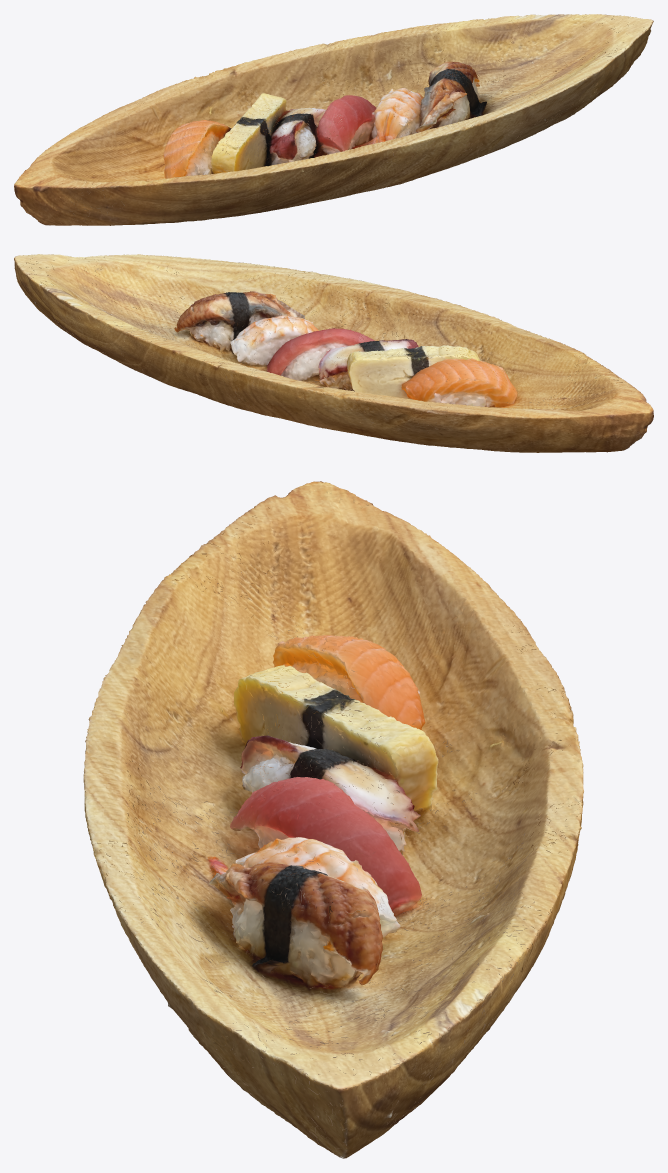
The model's file is sushi_draco.glb.
3 renders of one model, top to bottom at view 1: azimuth 30°, elevation 25°; view 2: azimuth 150°, elevation 25°; view 3: azimuth 270°, elevation 25°, orthographic. The views are drawn at different scales.
Parts seen in each view (by area): view 1: Object_2, Object_3; view 2: Object_2, Object_3; view 3: Object_2, Object_3.
Part boxes in pixels (x1=…): Object_2: x1=14, y1=14, x2=653, y2=225; Object_3: x1=54, y1=14, x2=653, y2=225; Object_2: x1=14, y1=254, x2=653, y2=452; Object_3: x1=14, y1=254, x2=640, y2=450; Object_2: x1=84, y1=481, x2=583, y2=1158; Object_3: x1=83, y1=501, x2=582, y2=1158.
Size of the model in its own units: 0.4573 by 0.0398 by 0.1564.
Materials: 1 (1 with a texture image).
